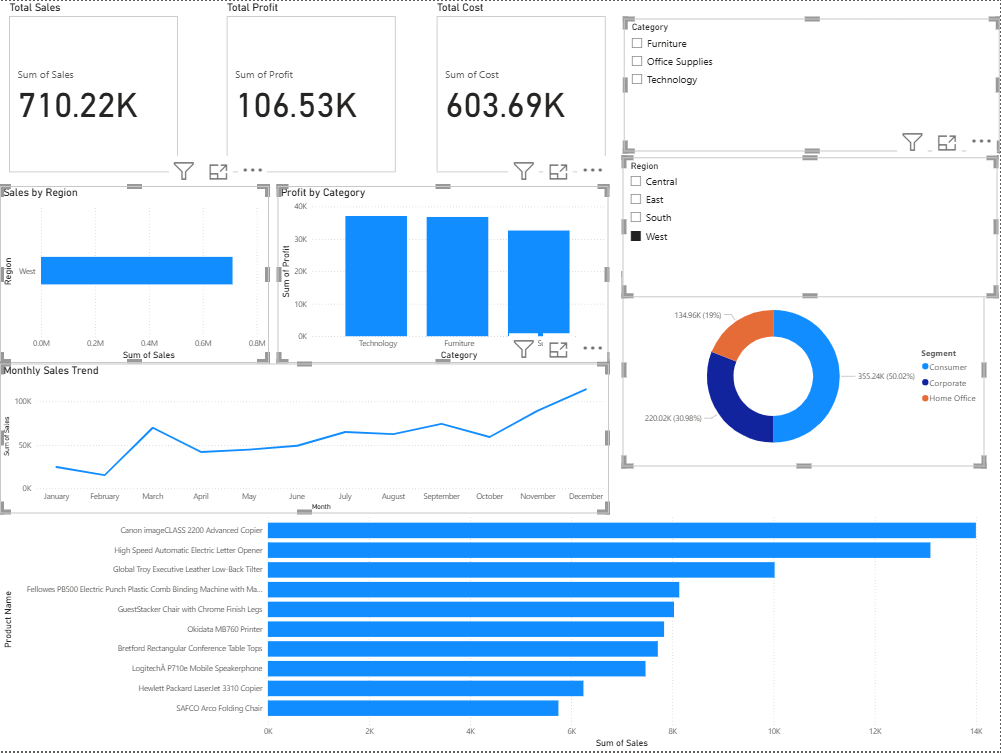

This screenshot's page, from the dashboard's own definition file:
{"tool":"powerbi","page":{"name":"Page 1","canvas":[1600,1200],"ordinal":0},"visuals":[{"type":"cardVisual","title":"Total Sales","fields":{"Data":["Sum(Sales and Profit Analysis DataS.Sales)"]},"box":[10,0,280,280],"z":0},{"type":"cardVisual","title":"Total Profit","fields":{"Data":["Sum(Sales and Profit Analysis DataS.Profit)"]},"box":[358.9,0,280,280],"z":1},{"type":"cardVisual","title":"Total Cost","fields":{"Data":["Sum(Sales and Profit Analysis DataS.Cost)"]},"box":[694.4,0,280,280],"z":2},{"type":"barChart","title":"Sales by Region","fields":{"Category":["Sales and Profit Analysis DataS.Region"],"Y":["Sum(Sales and Profit Analysis DataS.Sales)"]},"box":[0,295.7,430,284.3],"z":3},{"type":"clusteredColumnChart","title":"Profit by Category","fields":{"Category":["Sales and Profit Analysis DataS.Category"],"Y":["Sum(Sales and Profit Analysis DataS.Profit)"]},"box":[444.3,295.7,530,284.3],"z":4},{"type":"lineChart","title":"Monthly Sales Trend","fields":{"Y":["Sum(Sales and Profit Analysis DataS.Sales)"],"Category":["Sales and Profit Analysis DataS.Order Date.Variation.Date Hierarchy.Month"]},"box":[0,580,974.4,240],"z":5},{"type":"donutChart","title":" Sales by Segment","fields":{"Category":["Sales and Profit Analysis DataS.Segment"],"Y":["Sum(Sales and Profit Analysis DataS.Sales)"]},"box":[996.7,436.7,580,310],"z":6},{"type":"clusteredBarChart","title":" Top 10 Product by Sales","fields":{"Category":["Sales and Profit Analysis DataS.Product Name"],"Y":["Sum(Sales and Profit Analysis DataS.Sales)"]},"box":[0,790,1576.7,410],"z":7},{"type":"slicer","fields":{"Values":["Sales and Profit Analysis DataS.Region"]},"box":[996.7,250,600,223.3],"z":8},{"type":"slicer","fields":{"Values":["Sales and Profit Analysis DataS.Category"]},"box":[997,27,603,214],"z":9}]}

Visuals, with their boxes in screenshot pixels (x1, y1, x2, y2), scaled from the page's 1600x1200 canvas onto the 1001x753 screenshot:
"Total Sales" cardVisual: (left=6, top=0, right=181, bottom=176)
"Total Profit" cardVisual: (left=225, top=0, right=400, bottom=176)
"Total Cost" cardVisual: (left=434, top=0, right=610, bottom=176)
"Sales by Region" barChart: (left=0, top=186, right=269, bottom=364)
"Profit by Category" clusteredColumnChart: (left=278, top=186, right=610, bottom=364)
"Monthly Sales Trend" lineChart: (left=0, top=364, right=610, bottom=515)
" Sales by Segment" donutChart: (left=624, top=274, right=986, bottom=469)
" Top 10 Product by Sales" clusteredBarChart: (left=0, top=496, right=986, bottom=752)
slicer - Sales and Profit Analysis DataS.Region: (left=624, top=157, right=999, bottom=297)
slicer - Sales and Profit Analysis DataS.Category: (left=624, top=17, right=1000, bottom=151)
